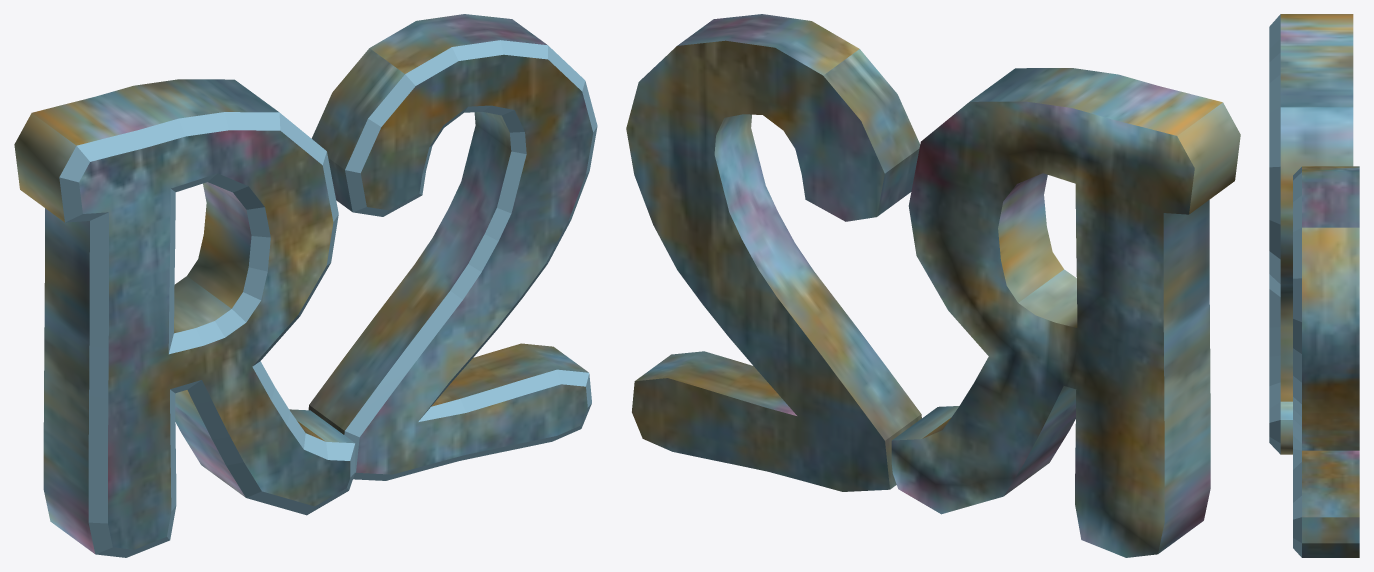
The model's file is button-r02.glb.
3 views of the same model, side by side, from view 1: azimuth 30°, elevation 25°; view 2: azimuth 150°, elevation 25°; view 3: azimuth 270°, elevation 25° (orthographic). The views are drawn at different scales.
Parts seen in each view (by area): view 1: ButtonR02; view 2: ButtonR02; view 3: ButtonR02.
Part boxes in pixels (<box>): ButtonR02: <box>14,14,597,557</box>; ButtonR02: <box>626,14,1240,557</box>; ButtonR02: <box>1269,14,1359,557</box>.
Bounding box in the file's own units: 0.229 × 0.1699 × 0.0402.
1 material, 1 textured.
